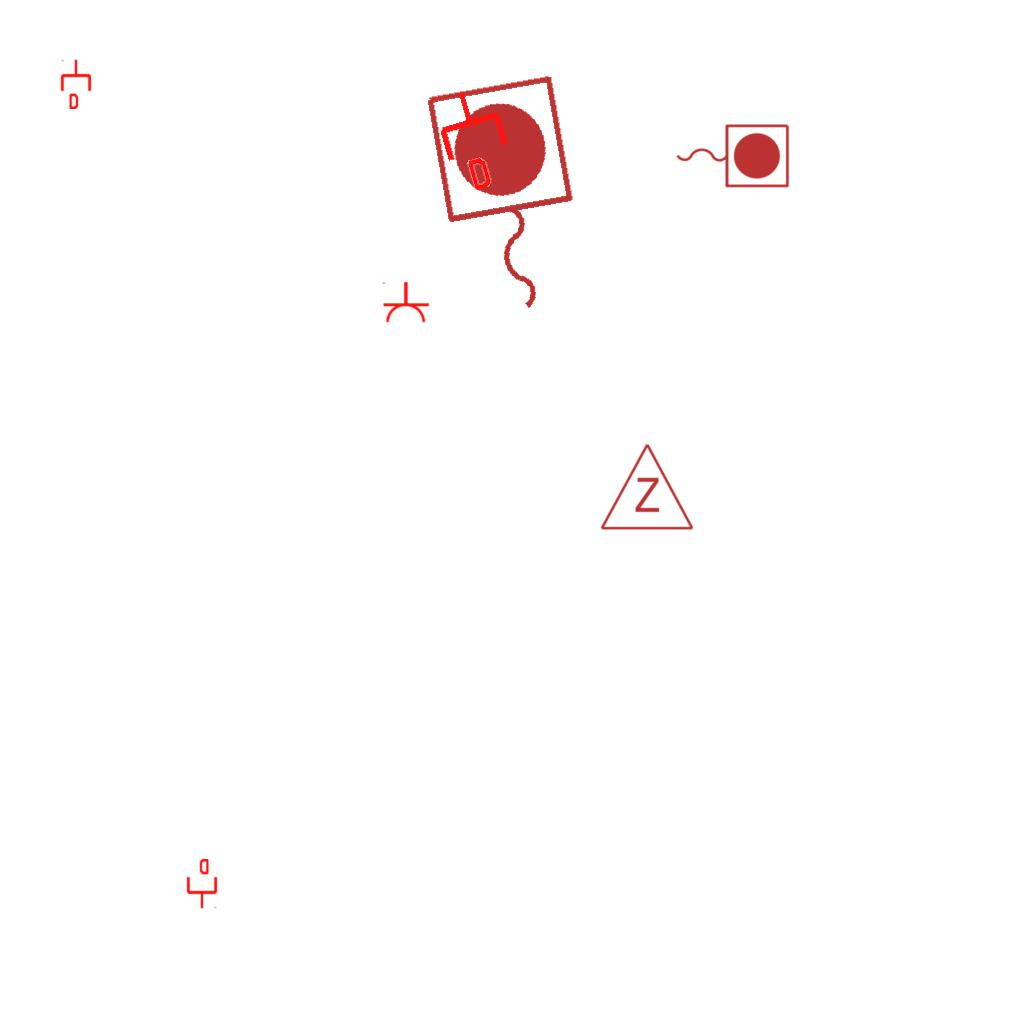Datenanschluss_einfach: (427, 81, 522, 197), (185, 859, 219, 909), (59, 59, 93, 109)
Schukosteckdose_einfach: (380, 281, 430, 324)
Zimmersignalleuchte: (597, 437, 695, 537)
Zugtaster: (414, 66, 600, 332), (671, 119, 793, 191)
